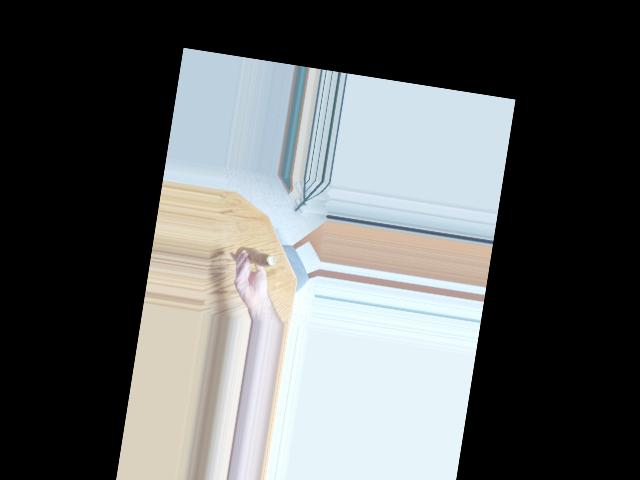sweet_potato: (236, 245, 270, 268)
